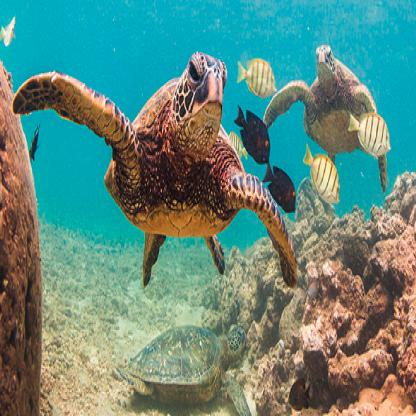turtle: (172, 47, 230, 164), (312, 36, 339, 91)
